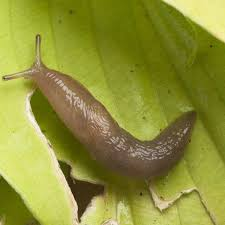slug: (5, 34, 200, 190)
